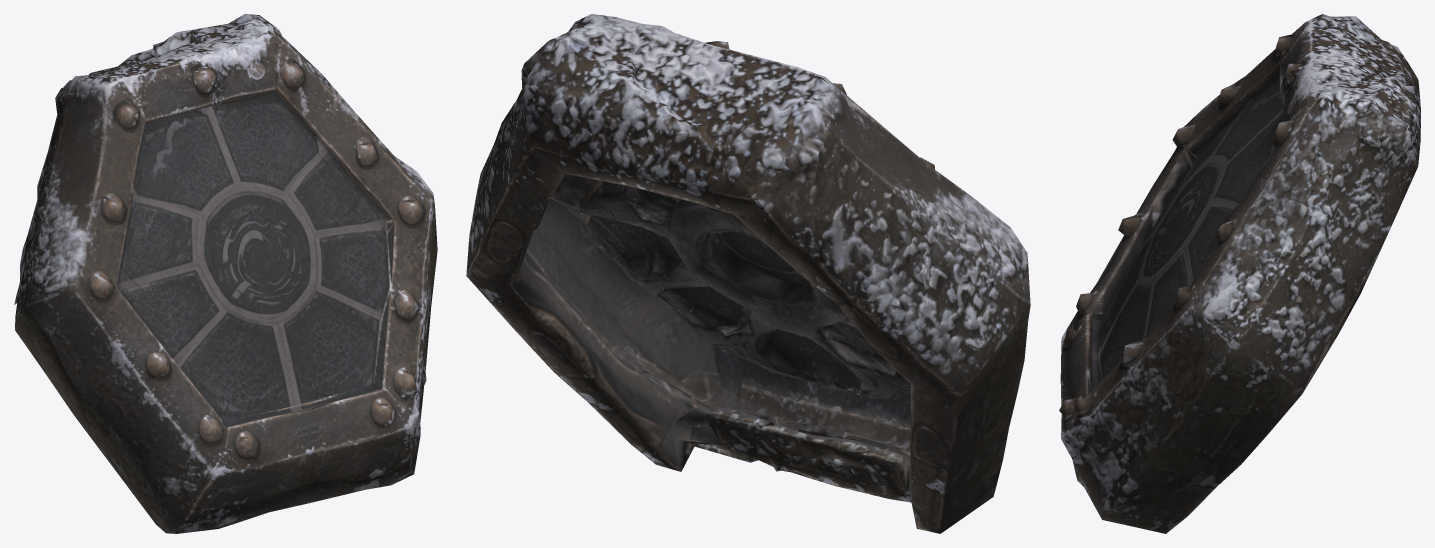
File: PR_HyeonmuPlate.fbx
The picture shows the model from 3 angles, left to right: view 1: azimuth 30°, elevation 25°; view 2: azimuth 150°, elevation 25°; view 3: azimuth 270°, elevation 25°; orthographic projection. The views are drawn at different scales.
Visible parts, largest first — view 1: texture_mapping; view 2: texture_mapping; view 3: texture_mapping.
Part boxes in pixels (bbox=[...]): texture_mapping: bbox=[14, 14, 437, 533]; texture_mapping: bbox=[466, 14, 1030, 533]; texture_mapping: bbox=[1059, 14, 1420, 533].
Bounding box in the file's own units: 0.9916 × 0.7083 × 0.9216.
Materials: 1 (1 with a texture image).
